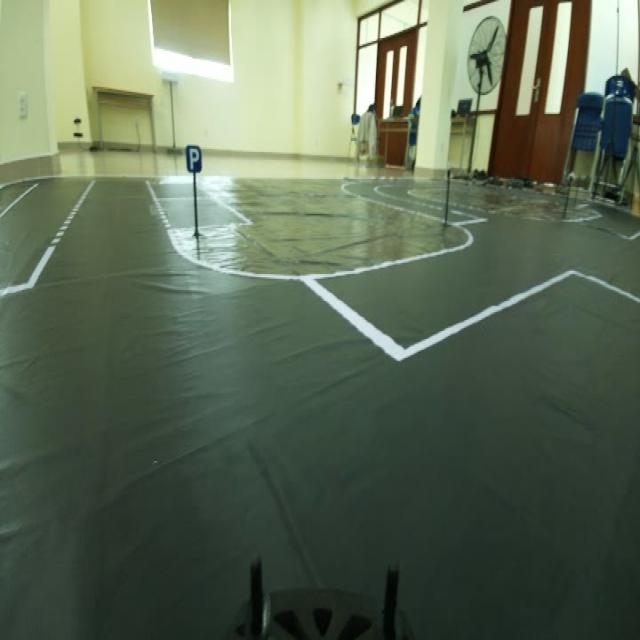parking: (182, 136, 206, 182)
